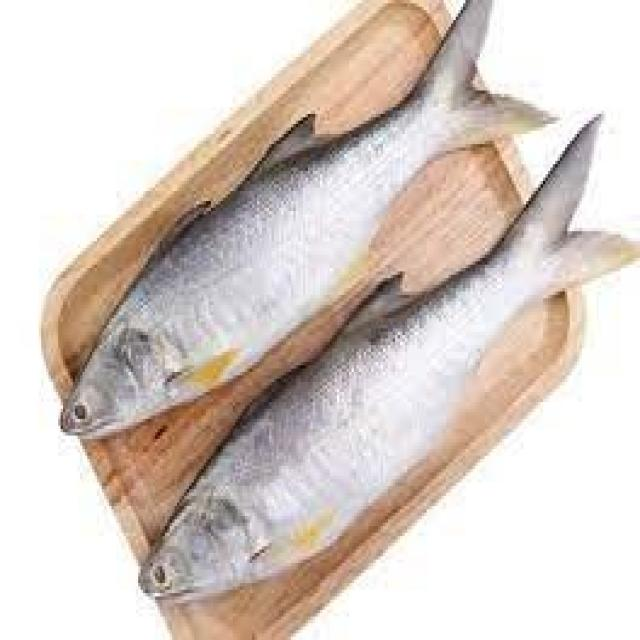Fourfinger-Threadfin: (31, 28, 624, 615)
